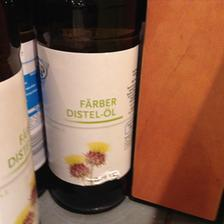Oel: (34, 0, 142, 214)
